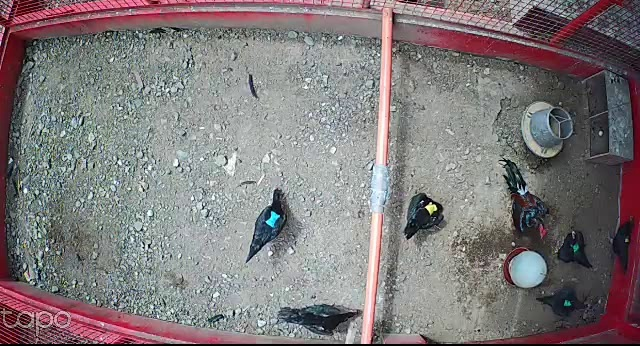Chicken: (242, 188, 298, 262), (268, 299, 364, 337), (401, 187, 446, 243), (603, 209, 638, 278), (535, 280, 590, 321), (549, 225, 595, 272)
Drinker: (502, 247, 548, 291)
Feeder: (519, 100, 574, 159)
Rooster: (496, 154, 555, 246)
Saddle_Color_Blue: (265, 209, 281, 229)
Saddle_Color_Yellow: (423, 200, 438, 215)
Saddle_Color_YellowGreen: (624, 233, 631, 242)
